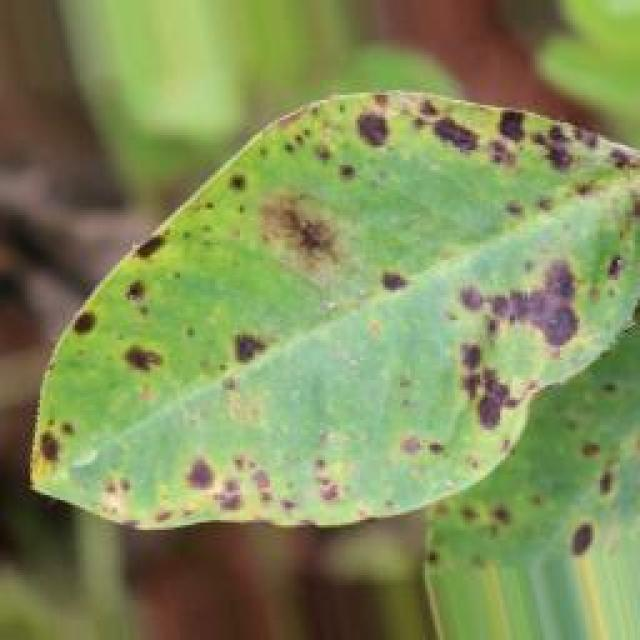Yellowish: (37, 62, 640, 572)
